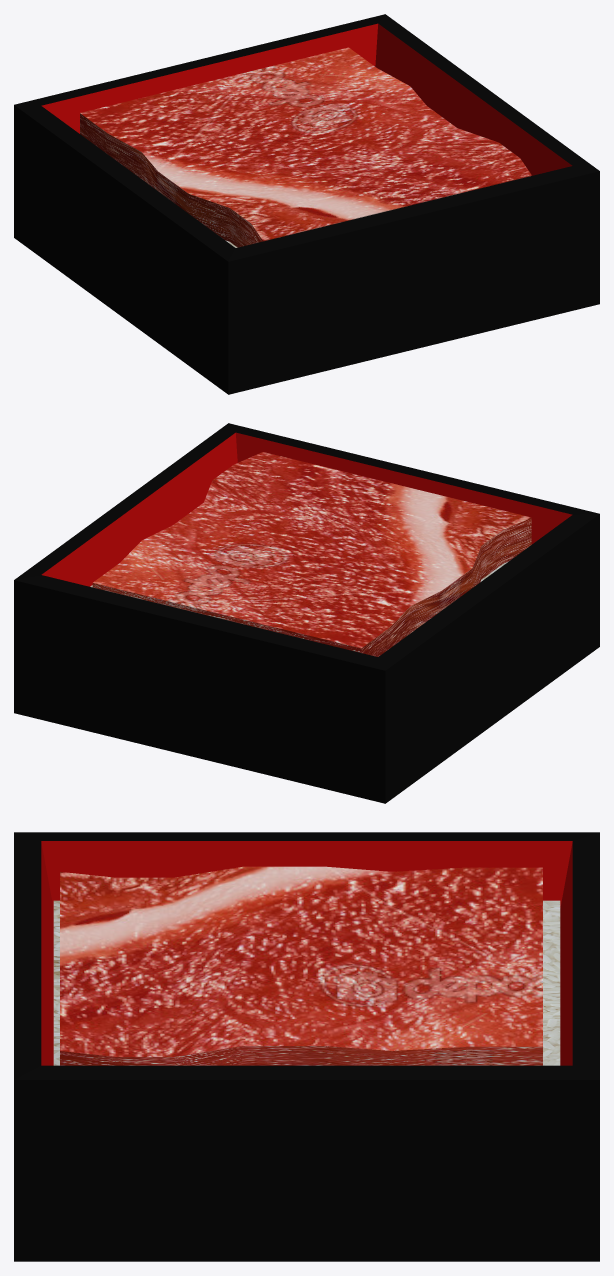
The model's file is Unaju.fbx.
3 views of the same model, one above another, from view 1: azimuth 30°, elevation 25°; view 2: azimuth 150°, elevation 25°; view 3: azimuth 270°, elevation 25° (orthographic). The views are drawn at different scales.
Parts seen in each view (by area): view 1: polySurface1; view 2: polySurface1; view 3: polySurface1.
Boxes of the visible parts, x1,y1,x2,y2 form: polySurface1: [14, 14, 599, 394]; polySurface1: [14, 423, 599, 803]; polySurface1: [14, 832, 599, 1261].
Size of the model in its own units: 14.56 by 5.06 by 14.56.
Materials: 4 (2 with a texture image).
